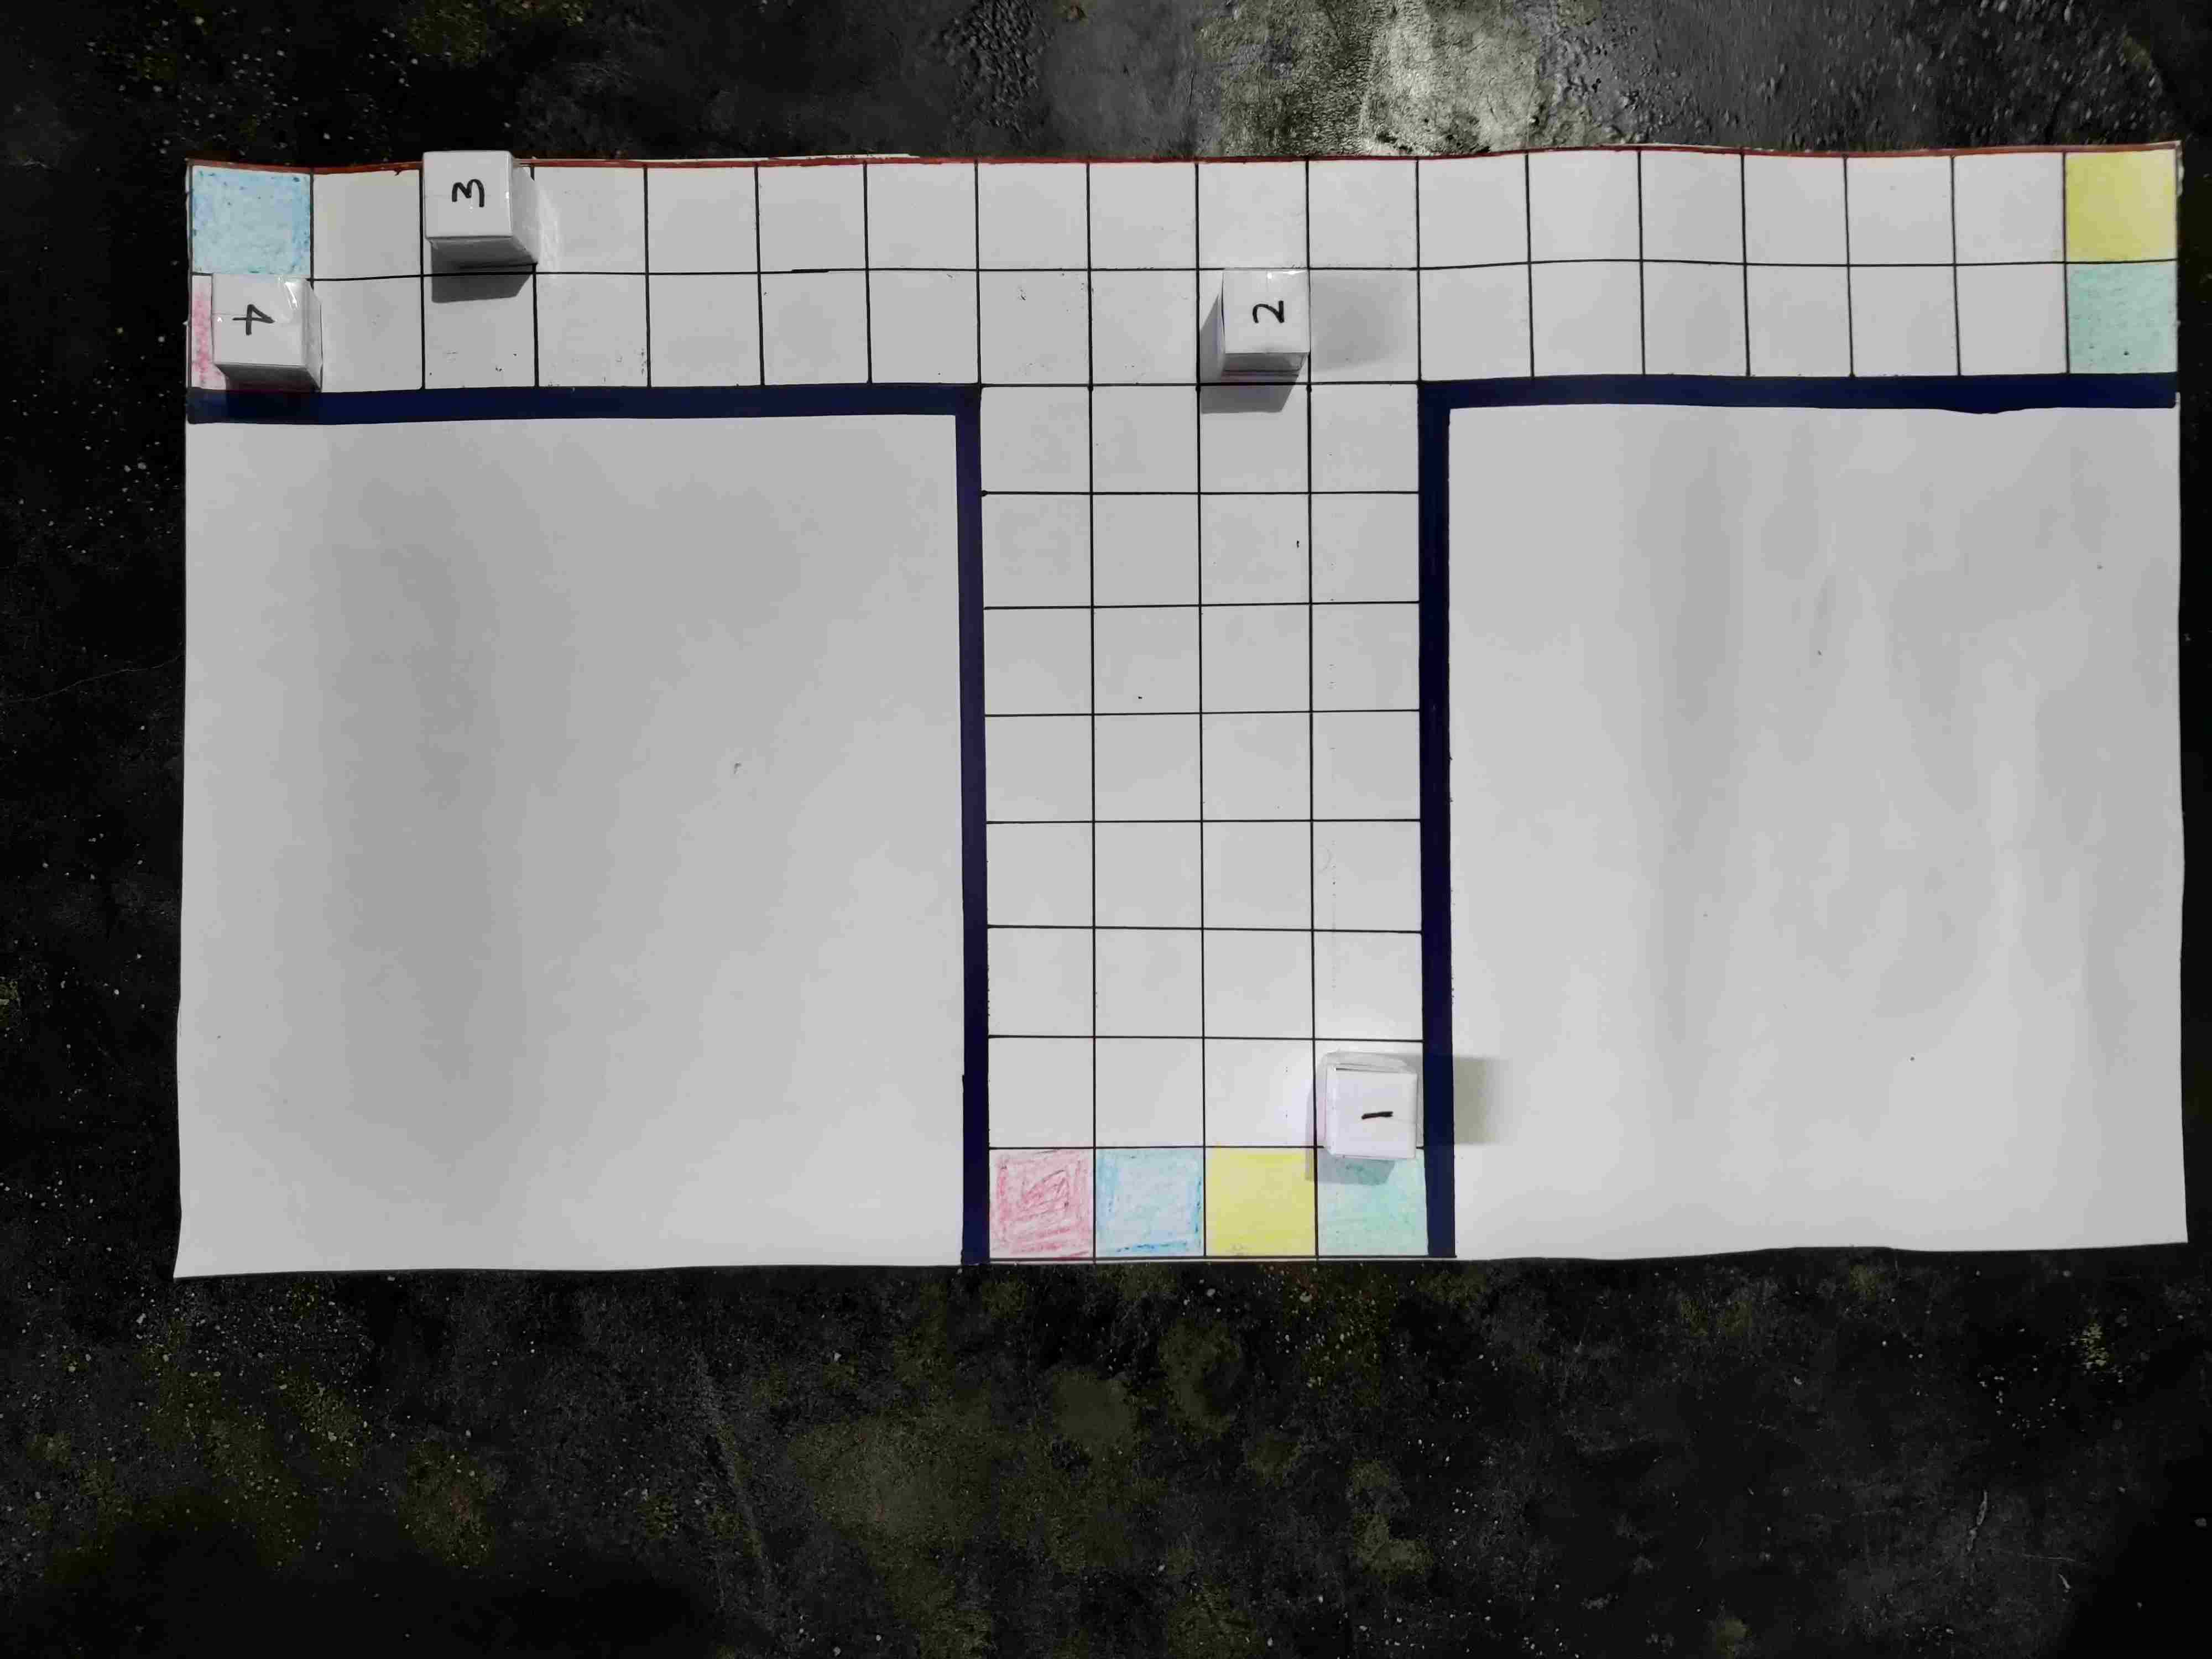arena: (132, 251, 2130, 1364)
bot: (1714, 1171, 1813, 1258), (216, 1141, 310, 1227), (1019, 357, 1113, 434), (1137, 924, 1228, 1002)
